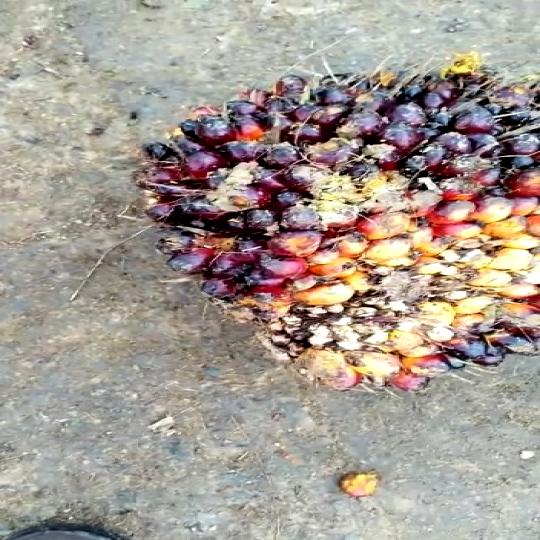kurang masak: (124, 63, 540, 418)
